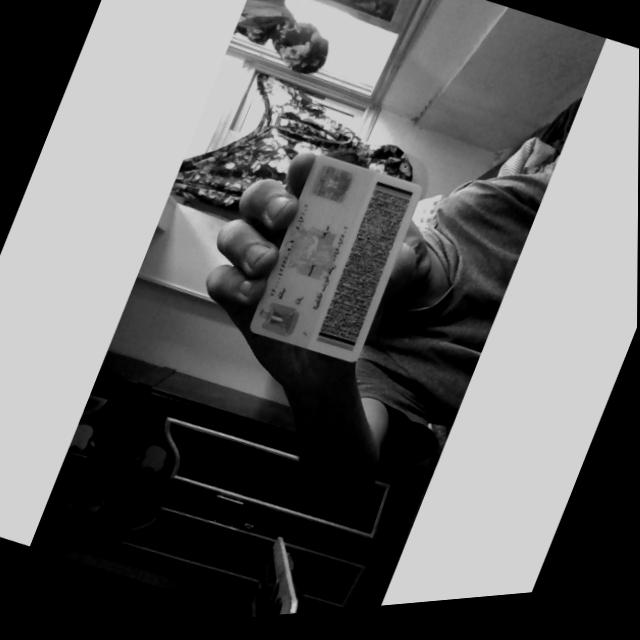id_card: (251, 155, 421, 360)
